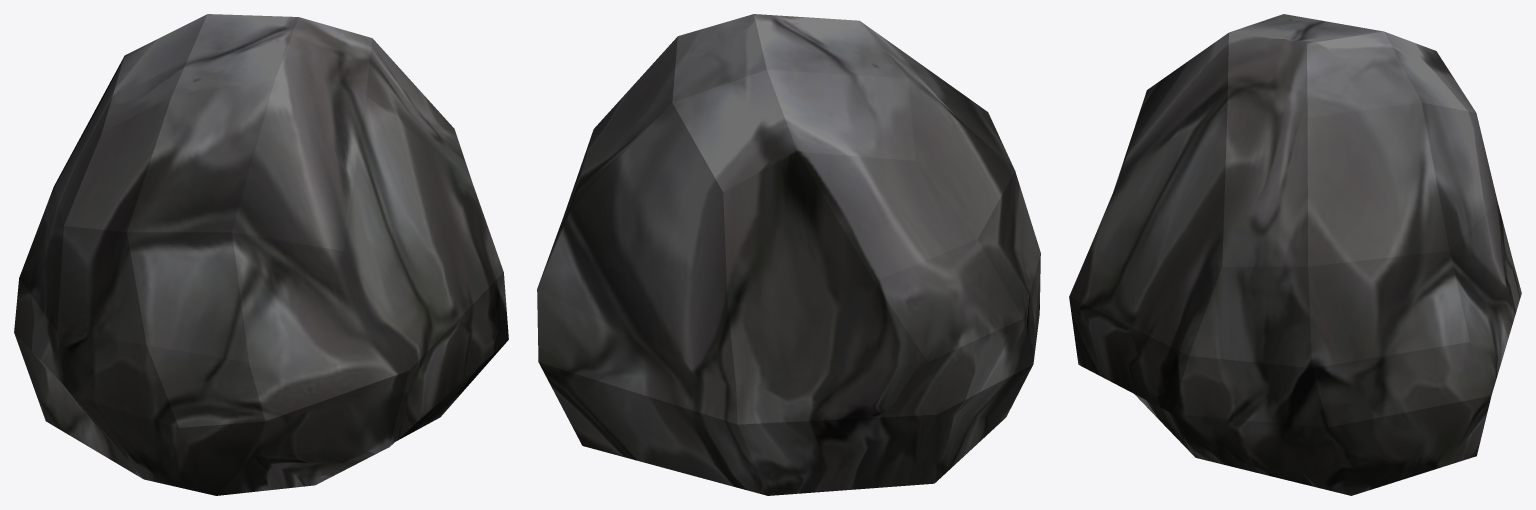
File: fanasty_mod_sml_stone01.fbx
3 renders of one model, left to right at view 1: azimuth 30°, elevation 25°; view 2: azimuth 150°, elevation 25°; view 3: azimuth 270°, elevation 25°, orthographic. The views are drawn at different scales.
Visible parts, largest first — view 1: sml_stone_01; view 2: sml_stone_01; view 3: sml_stone_01.
Part boxes in pixels (x1,y1,x2,y2): sml_stone_01: (14,14,508,495); sml_stone_01: (537,14,1040,495); sml_stone_01: (1069,14,1521,495).
Size of the model in its own units: 1.17 by 0.9619 by 1.06.
